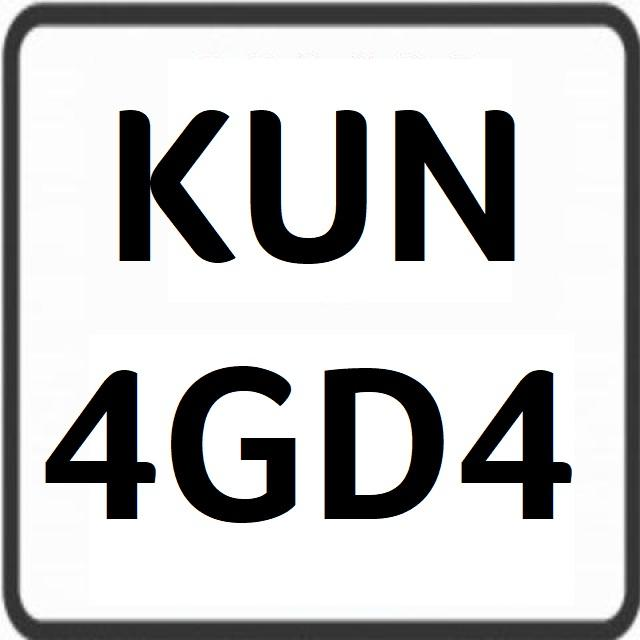4: (466, 334, 578, 542), (40, 344, 150, 536)
D: (315, 360, 447, 539)
G: (168, 349, 301, 538)
K: (101, 72, 240, 275)
N: (383, 75, 520, 274)
